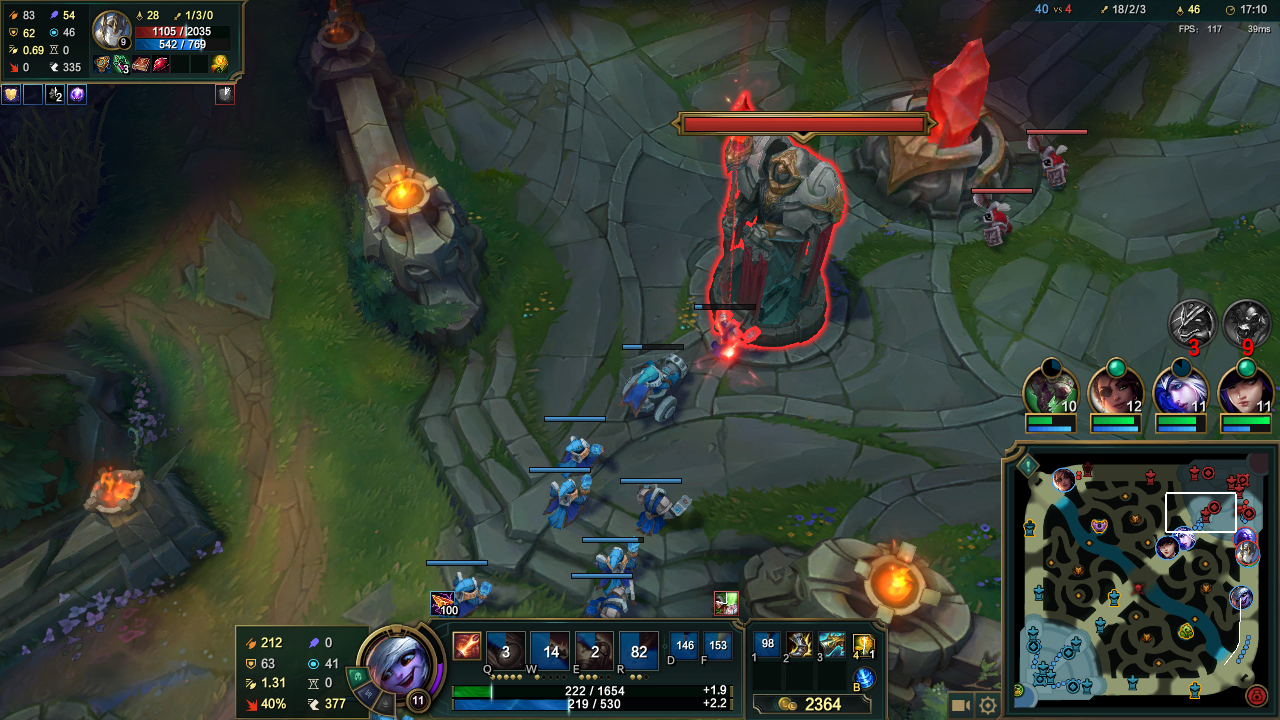DFFYT: (705, 134, 852, 369)
DFSJ: (860, 54, 1017, 233)
DFXB: (1026, 137, 1082, 194), (970, 200, 1023, 253)
WFXB: (623, 353, 694, 420), (630, 486, 690, 532), (540, 436, 610, 475), (544, 475, 597, 524), (592, 541, 646, 589), (451, 568, 499, 615), (576, 582, 639, 617)
